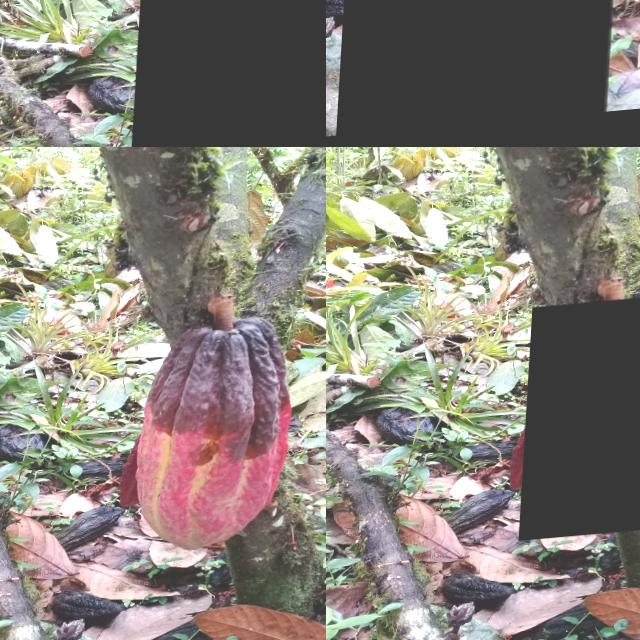Fitoftora: (344, 0, 634, 139), (524, 301, 640, 546), (134, 0, 326, 147)
